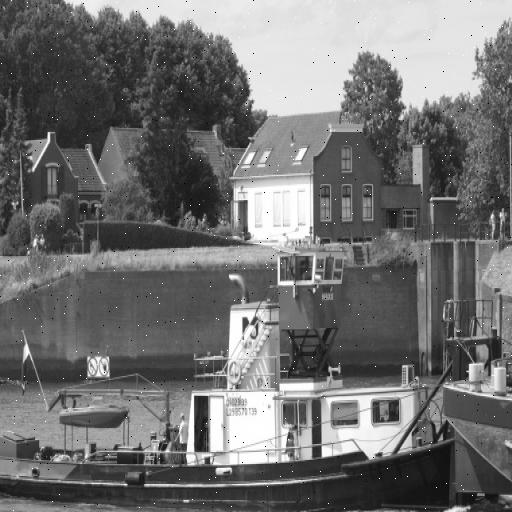tugboat: (1, 225, 509, 512)
